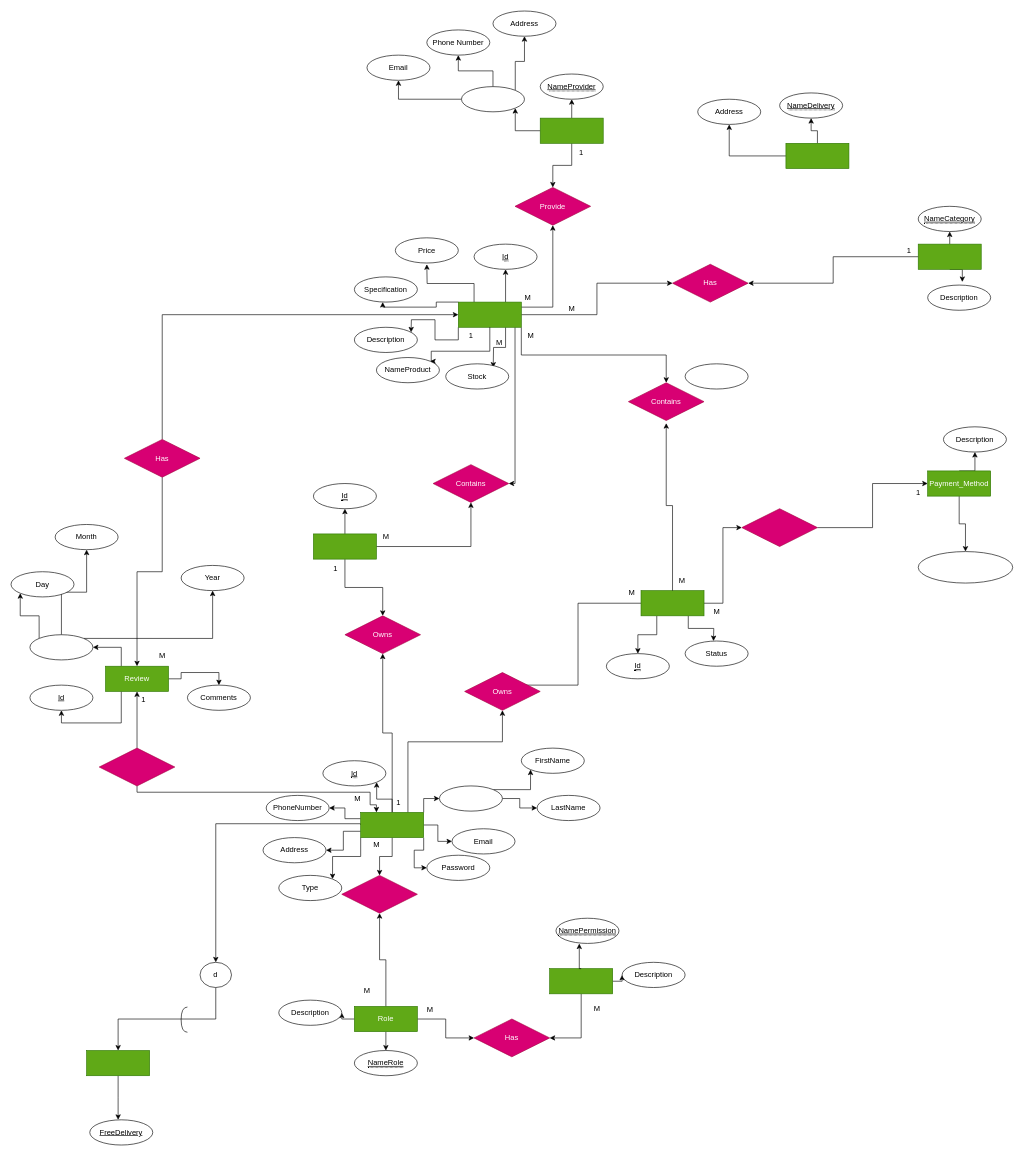
This 1024x1156 diagram has some shape labels left out. Here are the shapes that lost their labels. From the top down, the centre of each, then its label:
point (492, 99): Contact
point (571, 130): Provider
point (817, 156): Delivery
point (949, 256): Category
point (489, 314): Product
point (716, 376): Quantity
point (344, 546): Wishlist
point (779, 527): Paid
point (965, 567): NamePayment_Method
point (672, 603): Order
point (61, 647): Date
point (137, 766): Write
point (470, 798): Name
point (392, 825): User
point (379, 894): Is
point (581, 981): Permissions
point (118, 1063): Premium_User
